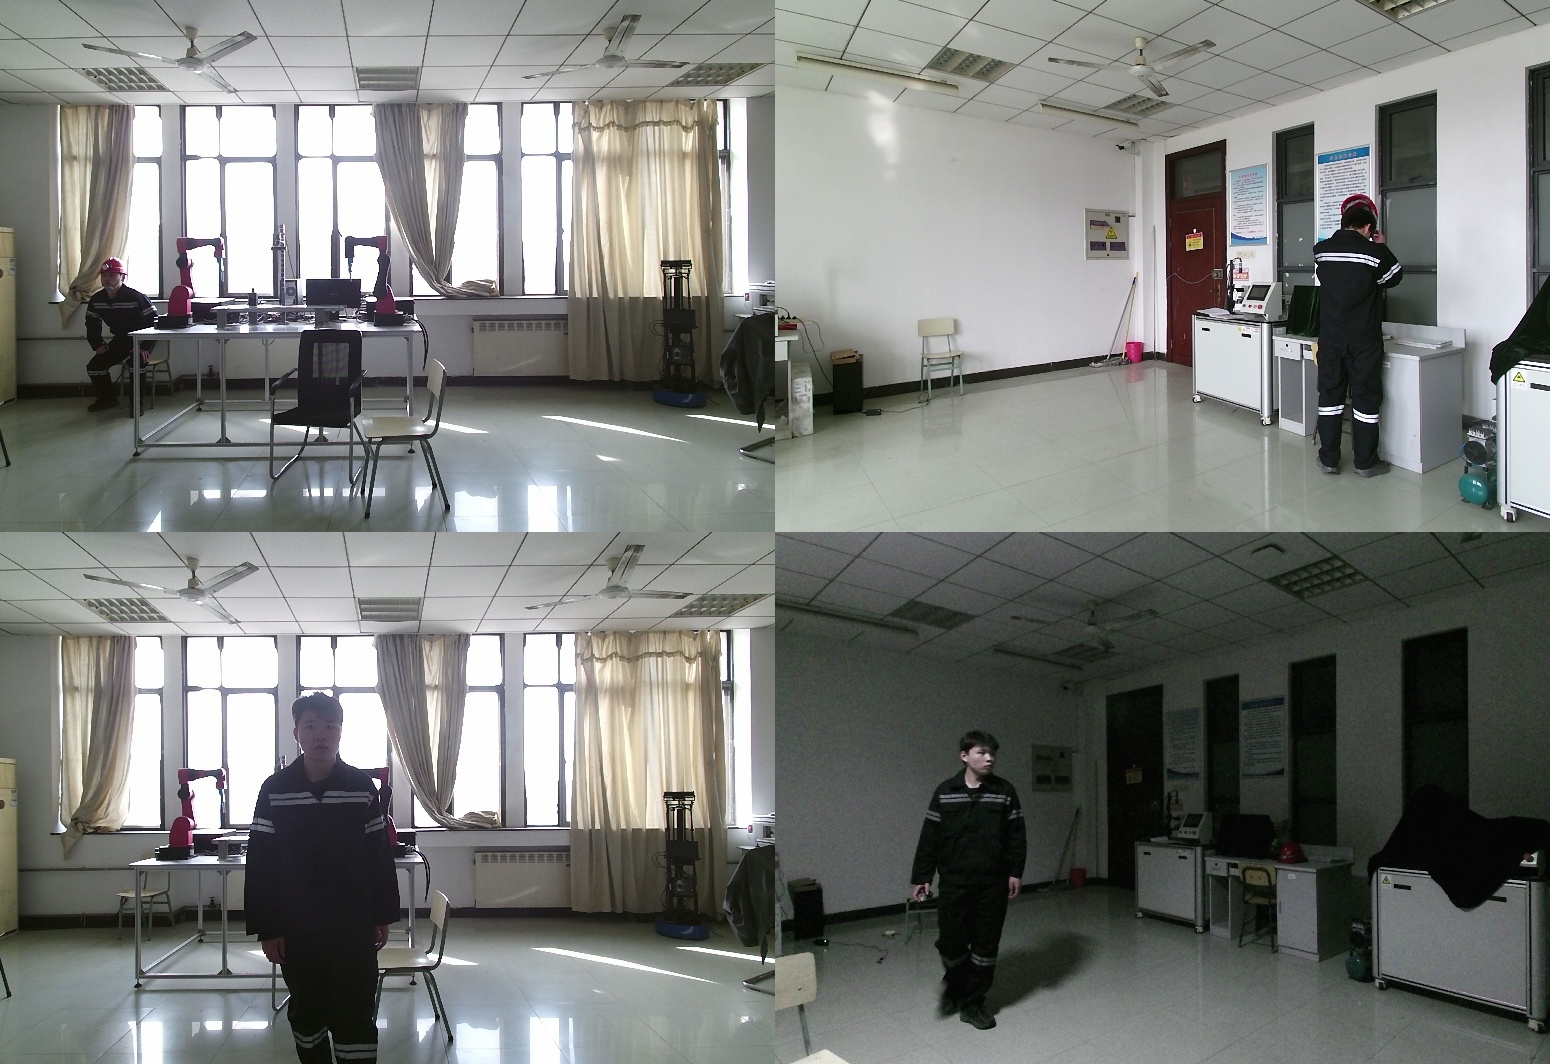person: (251, 697, 404, 1064), (911, 731, 1036, 1028), (1311, 199, 1425, 479), (75, 259, 161, 413)
